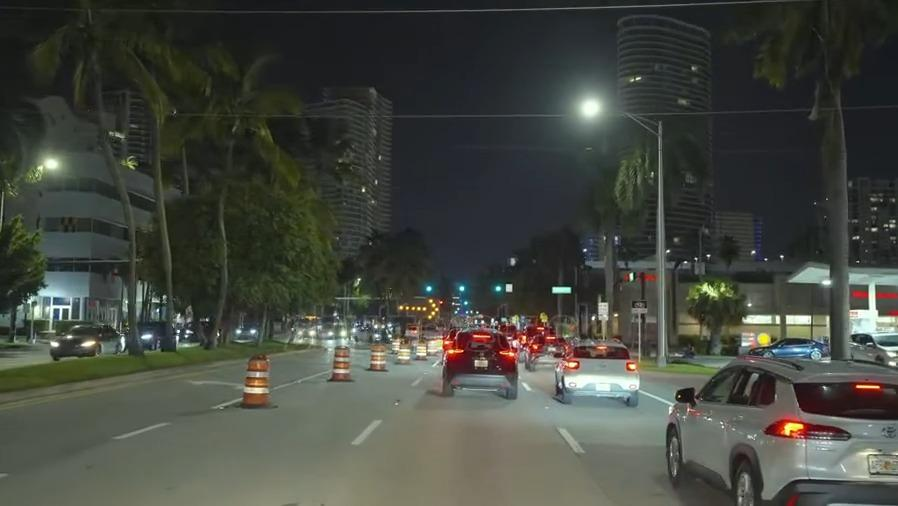arrow traffic sign: (395, 295, 441, 326)
car: (661, 358, 898, 506), (438, 327, 520, 402), (552, 344, 642, 407), (43, 321, 127, 361), (748, 334, 827, 367), (844, 328, 898, 366), (125, 319, 170, 352), (526, 333, 562, 372), (176, 319, 203, 341), (235, 320, 261, 341)
cone: (244, 354, 271, 407), (332, 343, 350, 381), (369, 340, 384, 371), (397, 339, 409, 369), (413, 339, 427, 361)
traffic light: (452, 279, 469, 298), (420, 280, 440, 296), (489, 280, 507, 296)
wheel: (729, 452, 763, 506), (659, 426, 687, 483)
